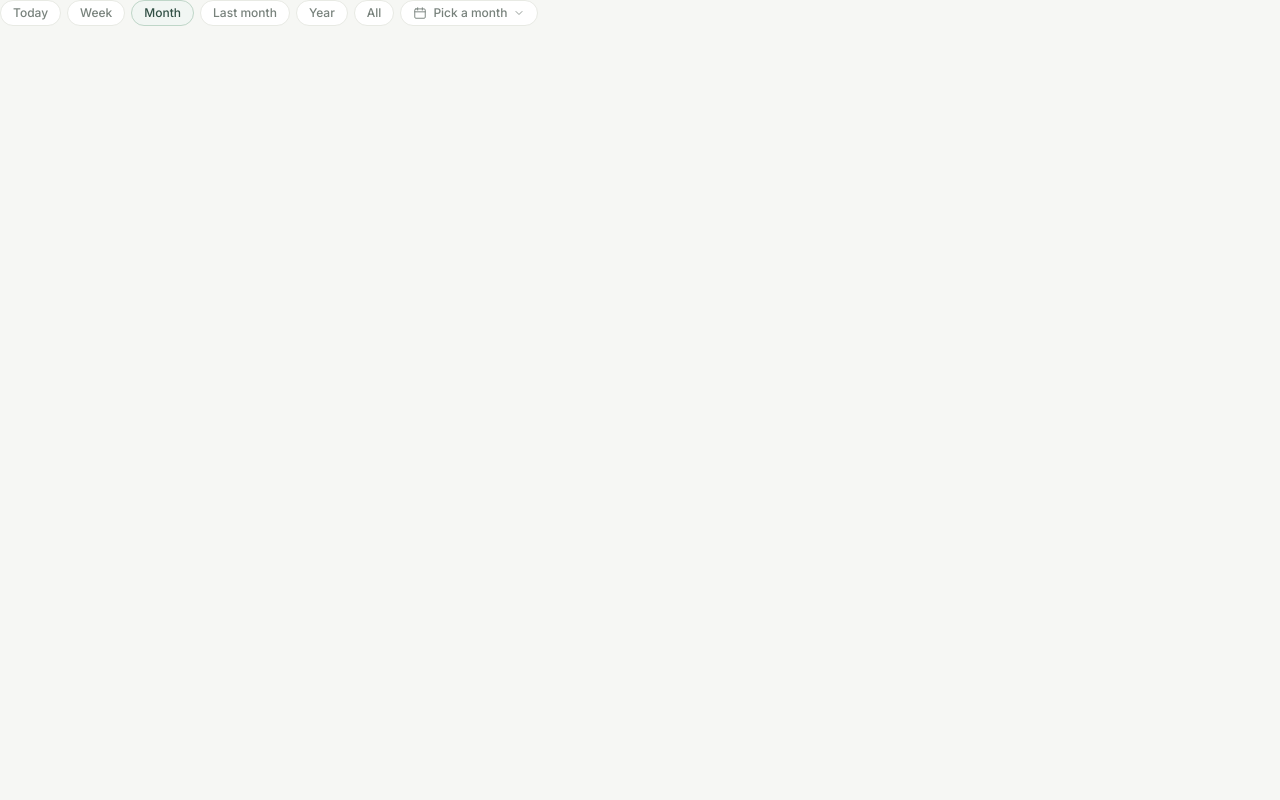
Test: RangePicker › reports the month key when one is picked from the calendar
Click the button "Pick a month" at (469, 13), box 400,0 -> 538,26
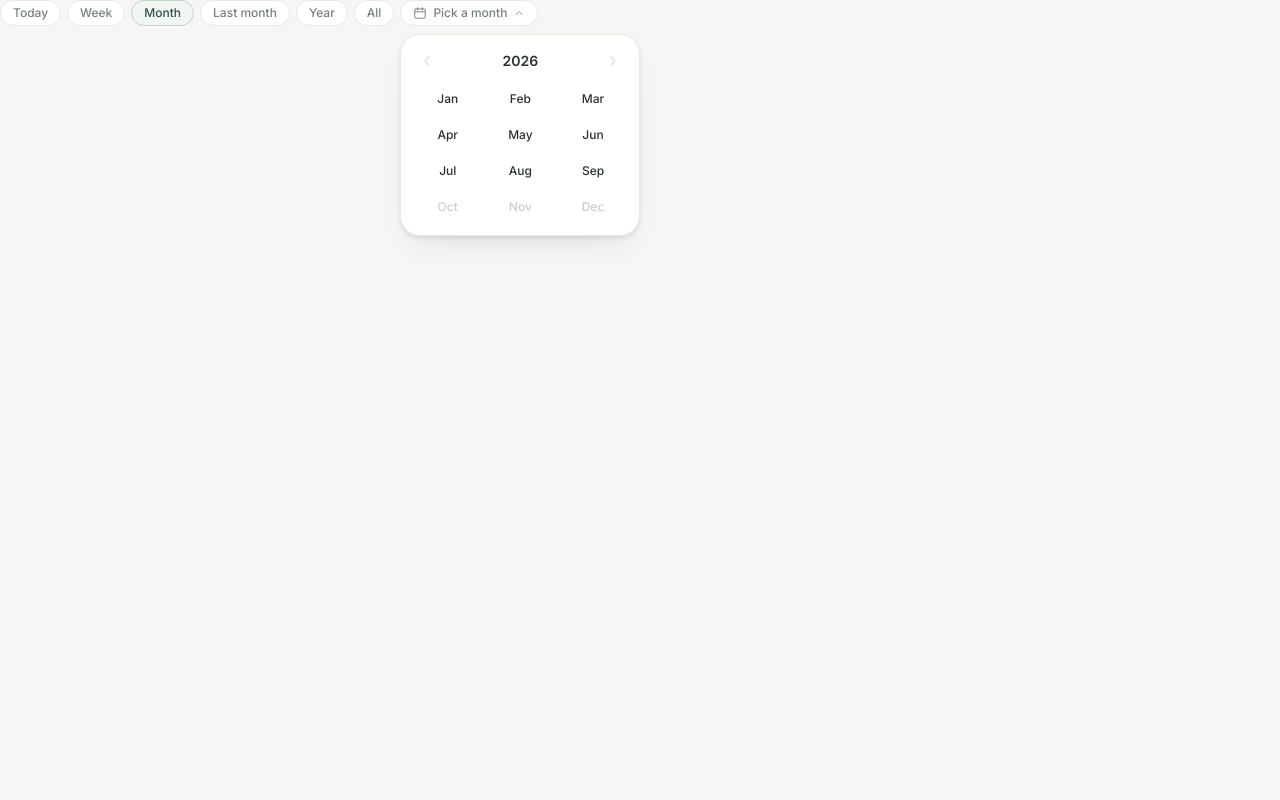
Click the button "Aug" at (520, 171), box 486,155 -> 555,187
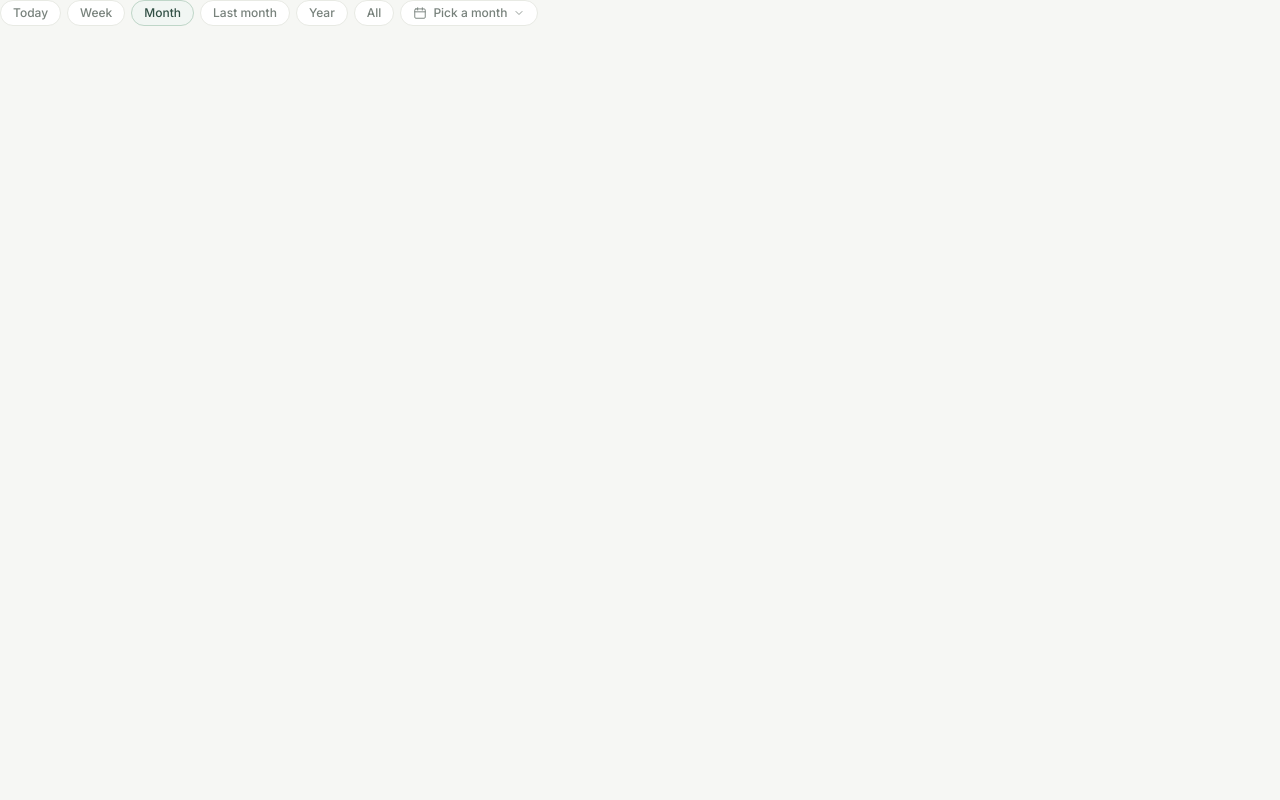
Expected: the dialog is gone
